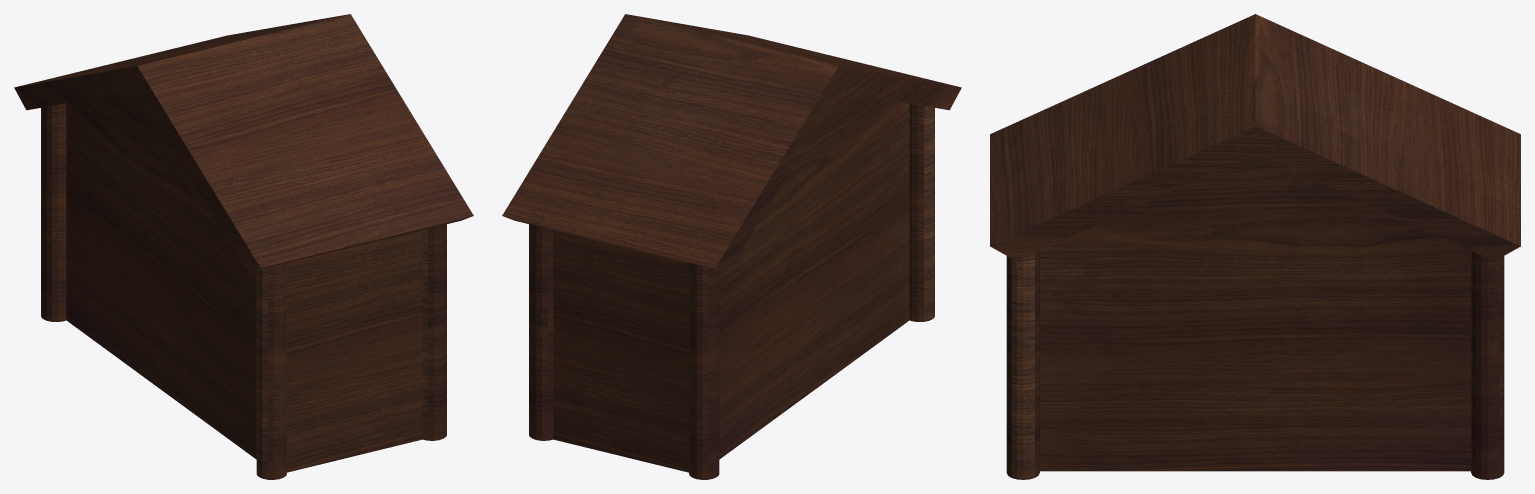
The model's file is inn.obj.
The picture shows the model from 3 angles, left to right: view 1: azimuth 30°, elevation 25°; view 2: azimuth 150°, elevation 25°; view 3: azimuth 270°, elevation 25°; orthographic projection. The views are drawn at different scales.
Visible parts, largest first — view 1: Roof, Poles; view 2: Roof, Poles; view 3: Roof, Poles.
Boxes of the visible parts, box(x1,y1,x2,y2) form: Roof: box(14, 14, 473, 472); Poles: box(41, 103, 446, 479); Roof: box(502, 14, 961, 472); Poles: box(529, 103, 934, 479); Roof: box(990, 14, 1520, 471); Poles: box(1006, 251, 1504, 479).
Size of the model in its own units: 1 by 1.5 by 2.
Materials: 1 (1 with a texture image).
